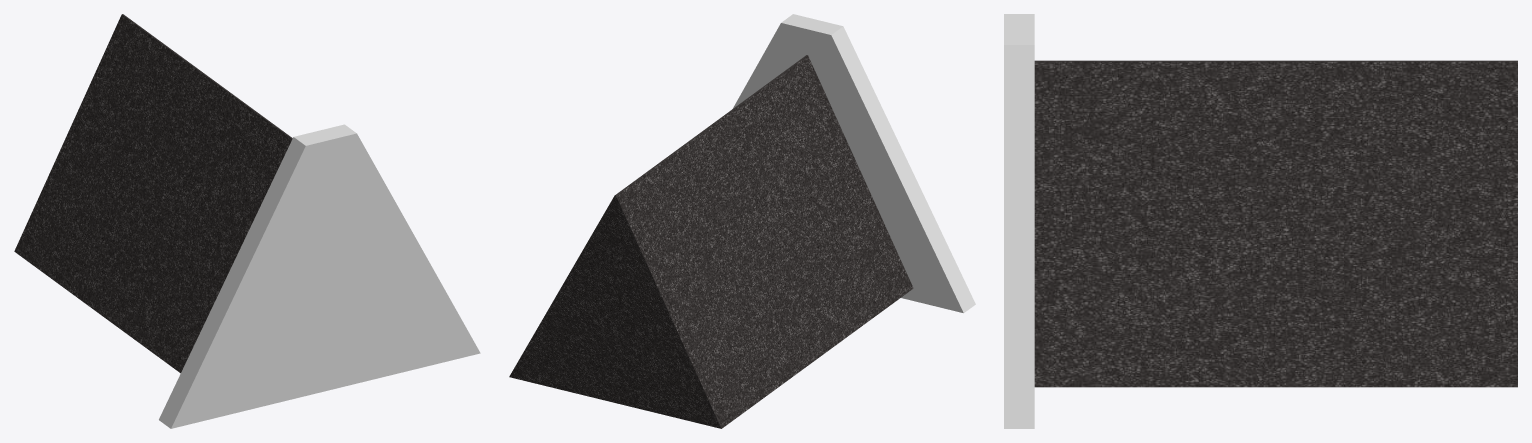
The model's file is roofledge.FBX.
3 views of the same model, side by side, from view 1: azimuth 30°, elevation 25°; view 2: azimuth 150°, elevation 25°; view 3: azimuth 270°, elevation 25° (orthographic). The views are drawn at different scales.
Parts seen in each view (by area): view 1: Box001, Box002; view 2: Box001, Box002; view 3: Box001, Box002.
Part boxes in pixels (box(x1,y1,x2,y2)): Box001: box(14, 14, 292, 373); Box002: box(159, 124, 480, 428); Box001: box(509, 55, 913, 428); Box002: box(733, 14, 975, 313); Box001: box(1034, 60, 1517, 387); Box002: box(1004, 14, 1034, 428).
Size of the model in its own units: 100 by 77.16 by 116.
Materials: 1 (1 with a texture image).
